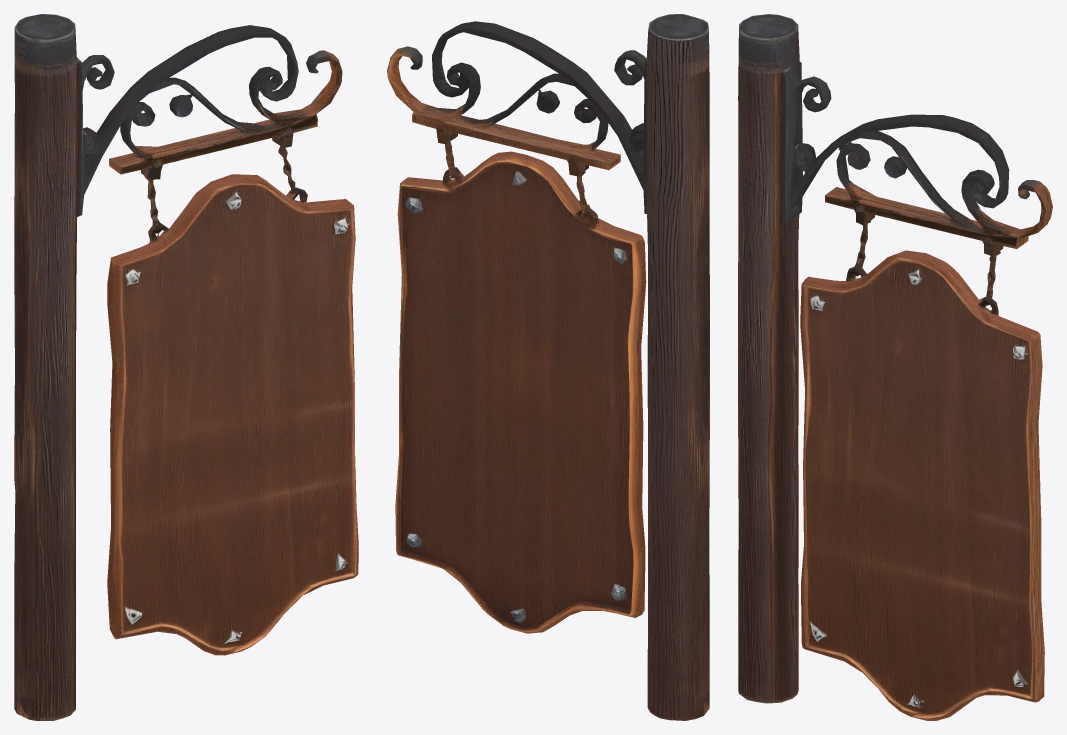
The model's file is sign-post.glb.
3 views of the same model, side by side, from view 1: azimuth 30°, elevation 25°; view 2: azimuth 150°, elevation 25°; view 3: azimuth 330°, elevation 25° (orthographic). The views are drawn at different scales.
Bounding box in the file's own units: 0.9407 × 1.9 × 0.1884.
Materials: 1 (1 with a texture image).
